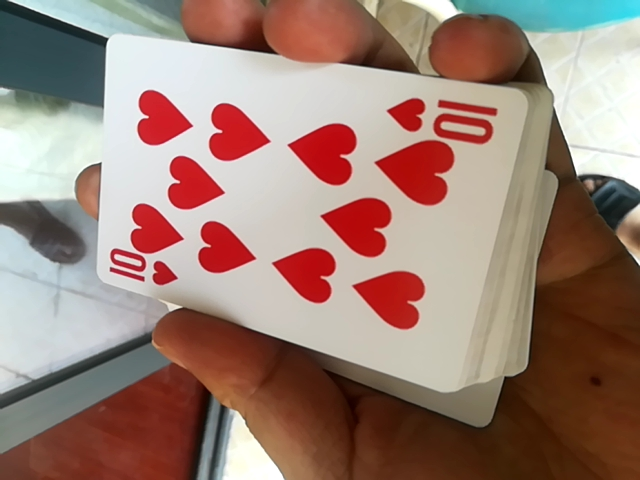hx 10: (79, 39, 504, 424)
